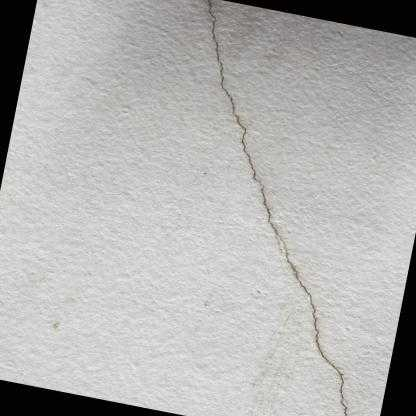crack: (208, 0, 348, 416)
